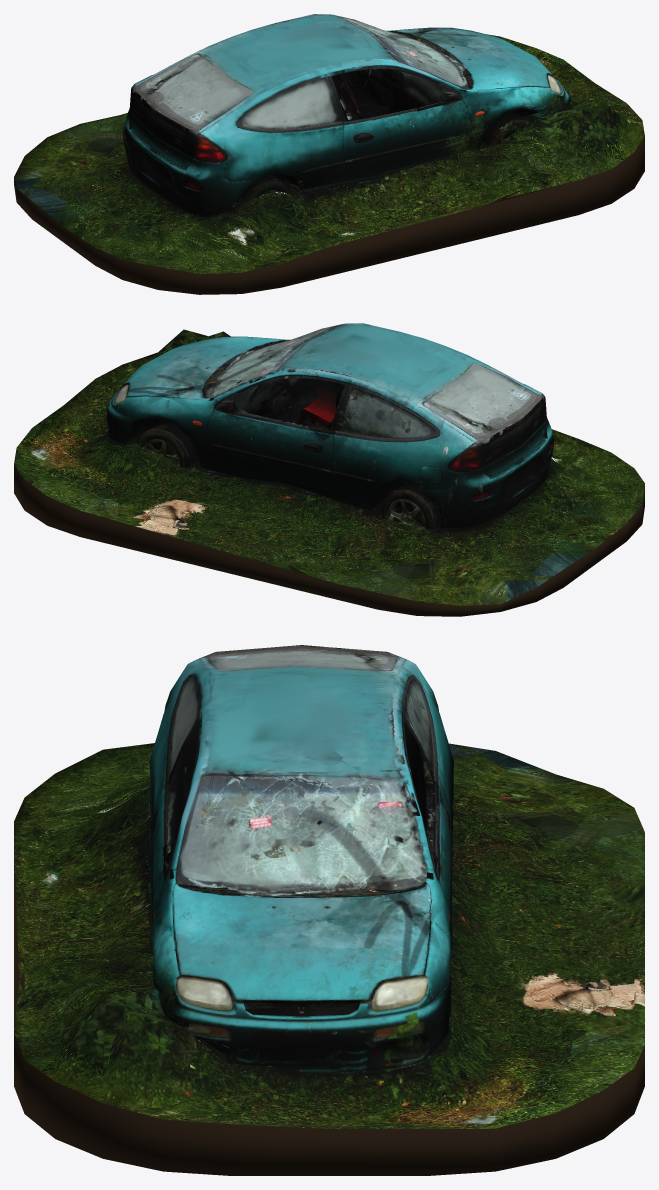
3 renders of one model, top to bottom at view 1: azimuth 30°, elevation 25°; view 2: azimuth 150°, elevation 25°; view 3: azimuth 270°, elevation 25°, orthographic. The views are drawn at different scales.
Visible parts, largest first — view 1: grass_0, car_1; view 2: grass_0, car_1; view 3: grass_0, car_1.
Part boxes in pixels (x1=…): grass_0: x1=14, y1=34, x2=644, y2=294; car_1: x1=122, y1=14, x2=570, y2=216; grass_0: x1=14, y1=329, x2=644, y2=616; car_1: x1=105, y1=323, x2=553, y2=529; grass_0: x1=14, y1=743, x2=644, y2=1175; car_1: x1=149, y1=645, x2=454, y2=1072.
Bounding box in the file's own units: 9.36 × 2.53 × 6.13.
Materials: 2 (2 with a texture image).
